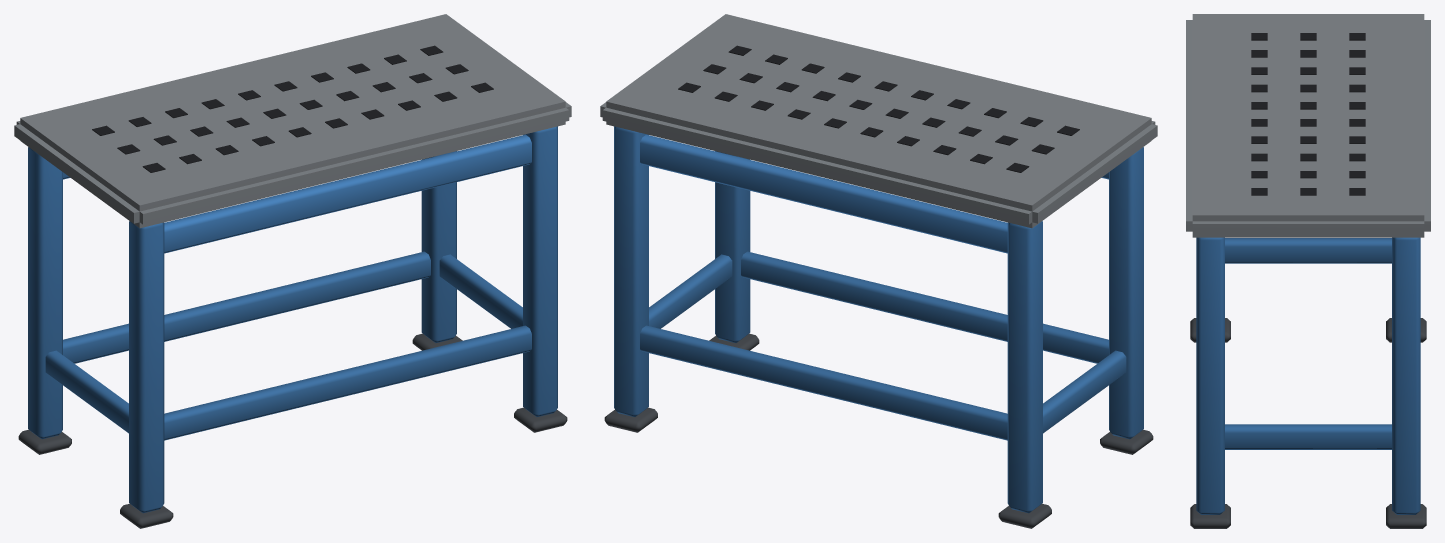
File: SM_WeldingTable_01.glb
3 renders of one model, left to right at view 1: azimuth 30°, elevation 25°; view 2: azimuth 150°, elevation 25°; view 3: azimuth 270°, elevation 25°, orthographic. The views are drawn at different scales.
Parts seen in each view (by area): view 1: SM_WeldingTable_01; view 2: SM_WeldingTable_01; view 3: SM_WeldingTable_01.
Part boxes in pixels (bbox=[...]): SM_WeldingTable_01: bbox=[14, 14, 571, 528]; SM_WeldingTable_01: bbox=[600, 14, 1157, 528]; SM_WeldingTable_01: bbox=[1186, 14, 1430, 528].
Size of the model in its own units: 1.2 by 0.852 by 0.6.
Materials: 1 (1 with a texture image).
